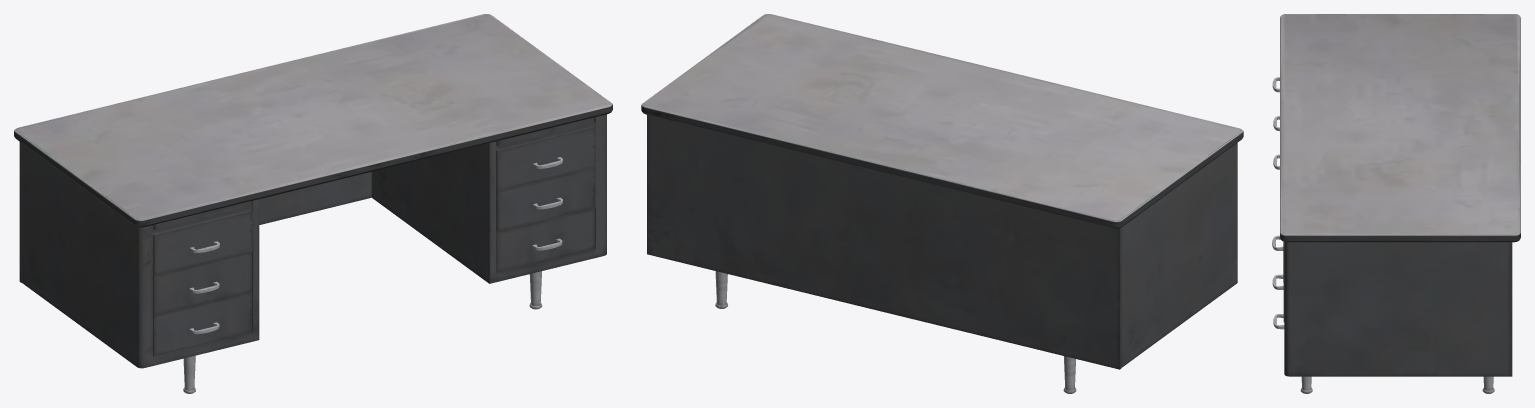
File: metal_office_desk.glb
The picture shows the model from 3 angles, left to right: view 1: azimuth 30°, elevation 25°; view 2: azimuth 150°, elevation 25°; view 3: azimuth 270°, elevation 25°; orthographic projection. The views are drawn at different scales.
Parts seen in each view (by area): view 1: metal_office_desk, metal_office_desk_drawer_04, metal_office_desk_drawer_01, metal_office_desk_drawer_02, metal_office_desk_drawer_03, metal_office_desk_drawer_06, metal_office_desk_drawer_05, metal_office_desk_tray_01, metal_office_desk_tray_02; view 2: metal_office_desk; view 3: metal_office_desk.
Part boxes in pixels (x1,y1,x2,y2): metal_office_desk: (14, 14, 612, 393); metal_office_desk_drawer_04: (153, 210, 252, 275); metal_office_desk_drawer_01: (496, 126, 595, 191); metal_office_desk_drawer_02: (496, 167, 595, 231); metal_office_desk_drawer_03: (496, 208, 594, 272); metal_office_desk_drawer_06: (153, 292, 251, 356); metal_office_desk_drawer_05: (153, 252, 251, 315); metal_office_desk_tray_01: (153, 201, 251, 230); metal_office_desk_tray_02: (496, 117, 594, 146); metal_office_desk: (641, 14, 1243, 393); metal_office_desk: (1280, 14, 1520, 393).
Size of the model in its own units: 2 by 0.7874 by 0.9472.
1 material, 1 textured.
